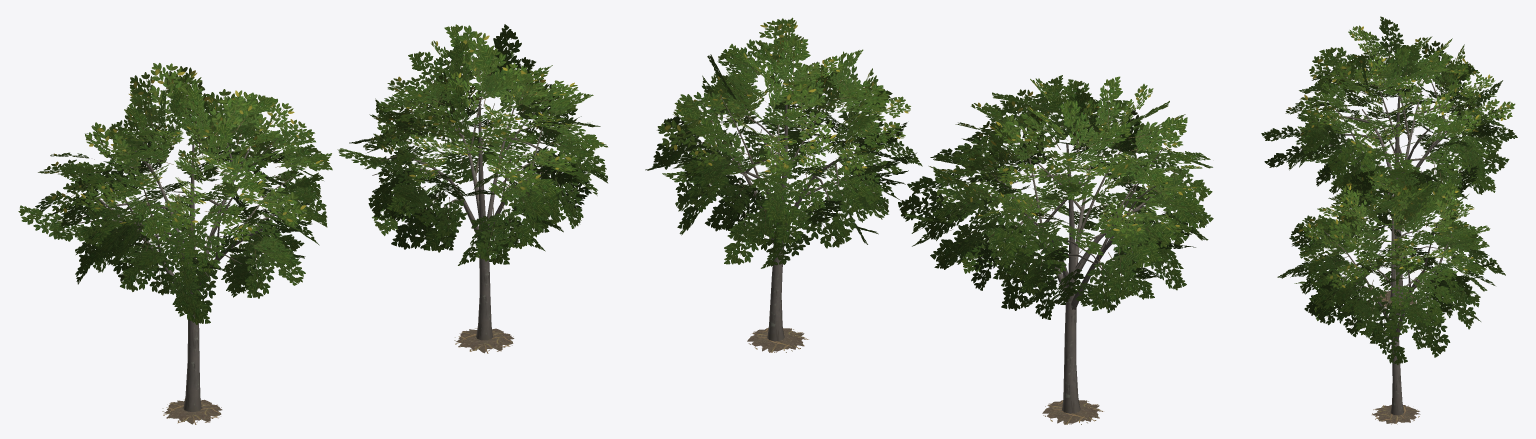
File: street_tree.glb
3 views of the same model, side by side, from view 1: azimuth 30°, elevation 25°; view 2: azimuth 150°, elevation 25°; view 3: azimuth 270°, elevation 25° (orthographic). The views are drawn at different scales.
Visible parts, largest first — view 1: variant_a_lod0, variant_b_lod0; view 2: variant_a_lod0, variant_b_lod0; view 3: variant_b_lod0, variant_a_lod0.
Part boxes in pixels (x1,y1,x2,y2): variant_a_lod0: (18, 63, 332, 424); variant_b_lod0: (337, 24, 607, 353); variant_a_lod0: (898, 75, 1213, 424); variant_b_lod0: (645, 17, 922, 352); variant_b_lod0: (1277, 155, 1505, 424); variant_a_lod0: (1261, 16, 1517, 308).
Size of what is drawn, in the model's own units: 15.08 by 8.74 by 7.77.
Materials: 2 (2 with a texture image).
